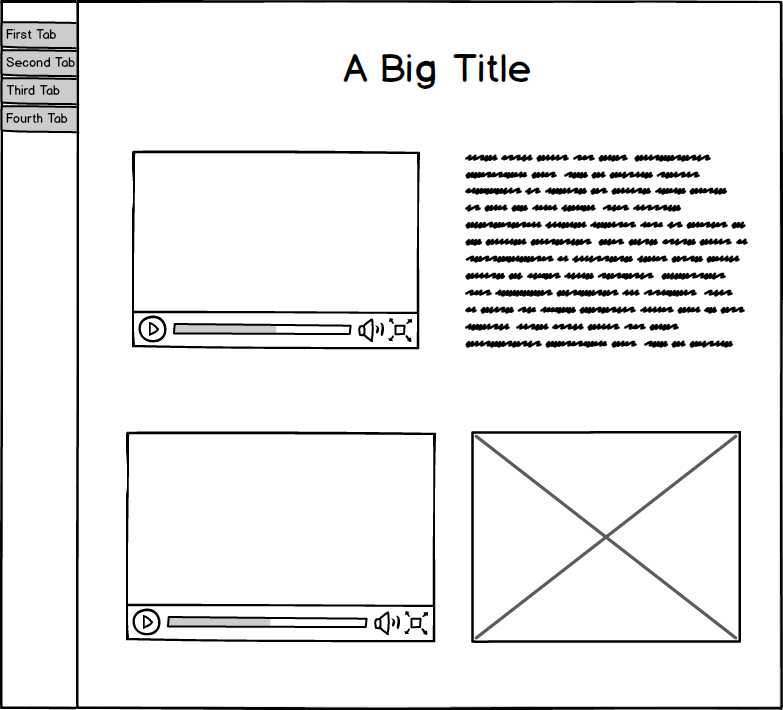h1: (333, 46, 541, 91)
image: (462, 426, 747, 648)
p: (461, 148, 755, 353)
sidebar: (1, 14, 85, 138)
video: (119, 427, 441, 646), (128, 146, 425, 353)
